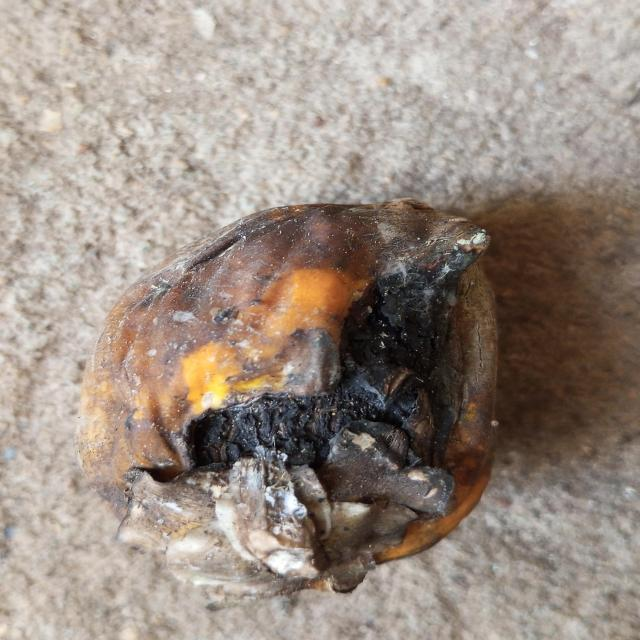damaged: (79, 199, 496, 600)
